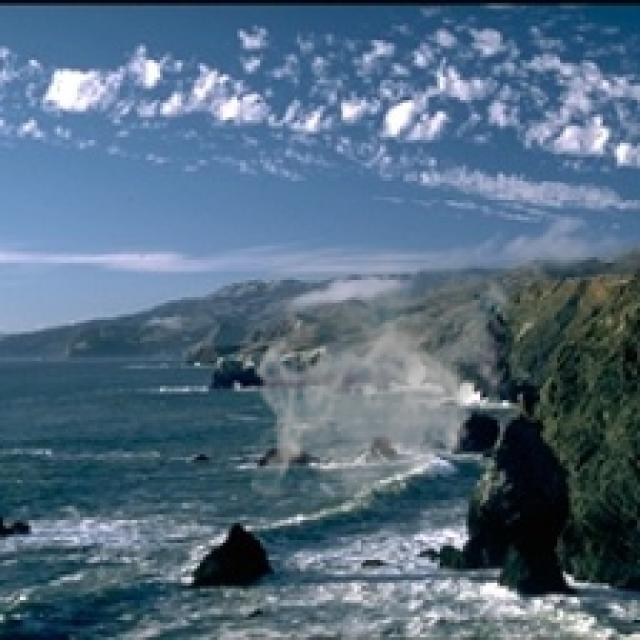smoke: (251, 248, 520, 512)
